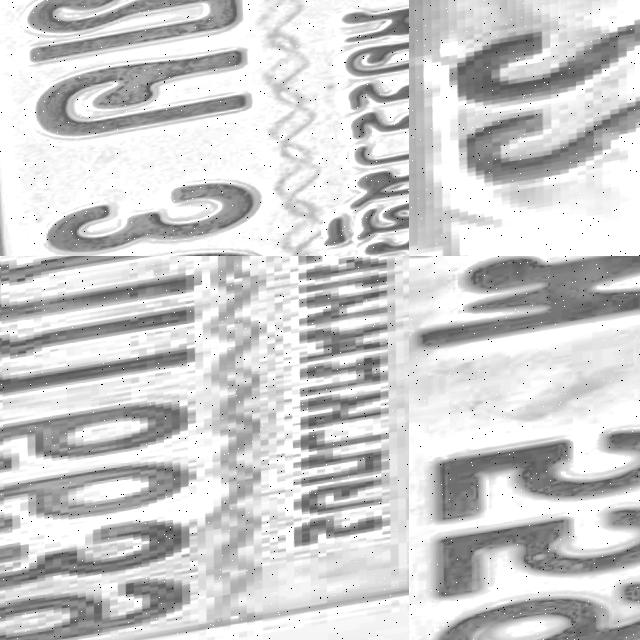license-plate: (0, 256, 409, 640), (0, 0, 409, 256), (409, 256, 640, 640), (409, 0, 640, 256)
